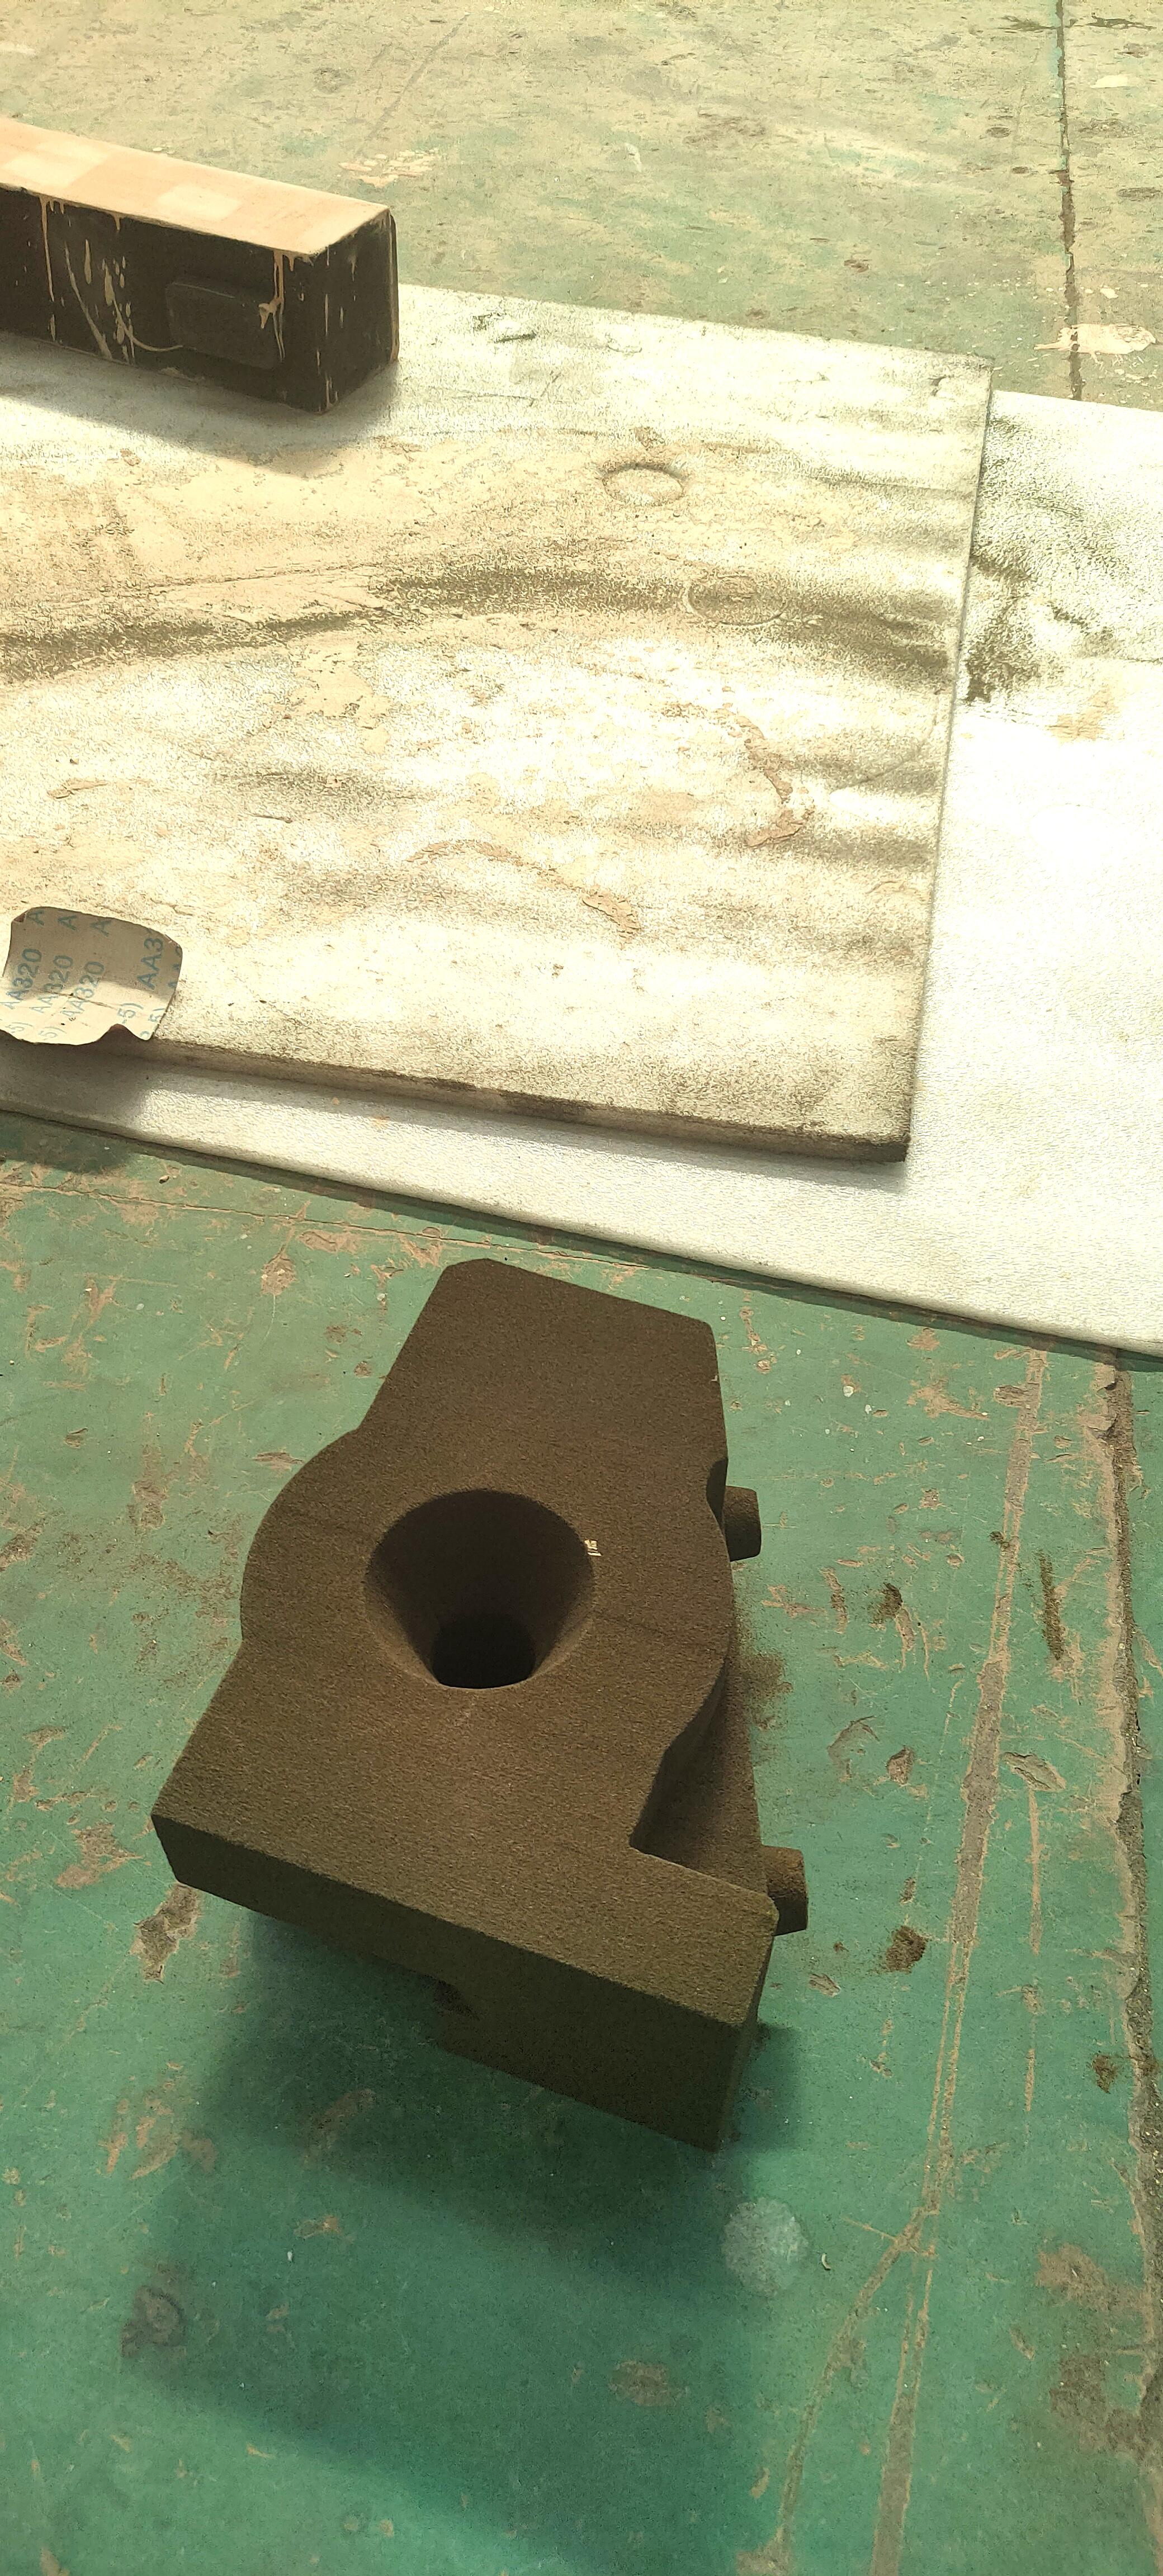pouring hole: (363, 1492, 591, 1687)
